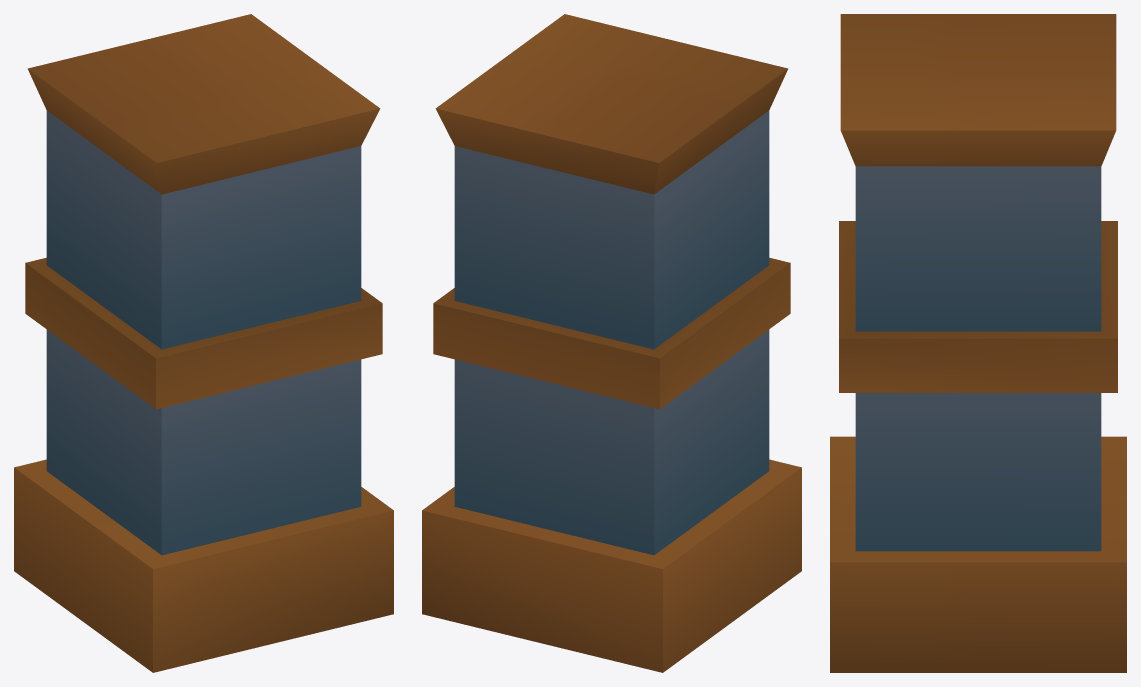
Rendered from column.glb.
3 renders of one model, left to right at view 1: azimuth 30°, elevation 25°; view 2: azimuth 150°, elevation 25°; view 3: azimuth 270°, elevation 25°, orthographic. The views are drawn at different scales.
Parts seen in each view (by area): view 1: column; view 2: column; view 3: column.
Part boxes in pixels (x1,y1,x2,y2): column: (14,14,393,672); column: (422,14,801,672); column: (830,14,1126,672).
Bounding box in the file's own units: 16 × 32 × 16.
1 material, 1 textured.
